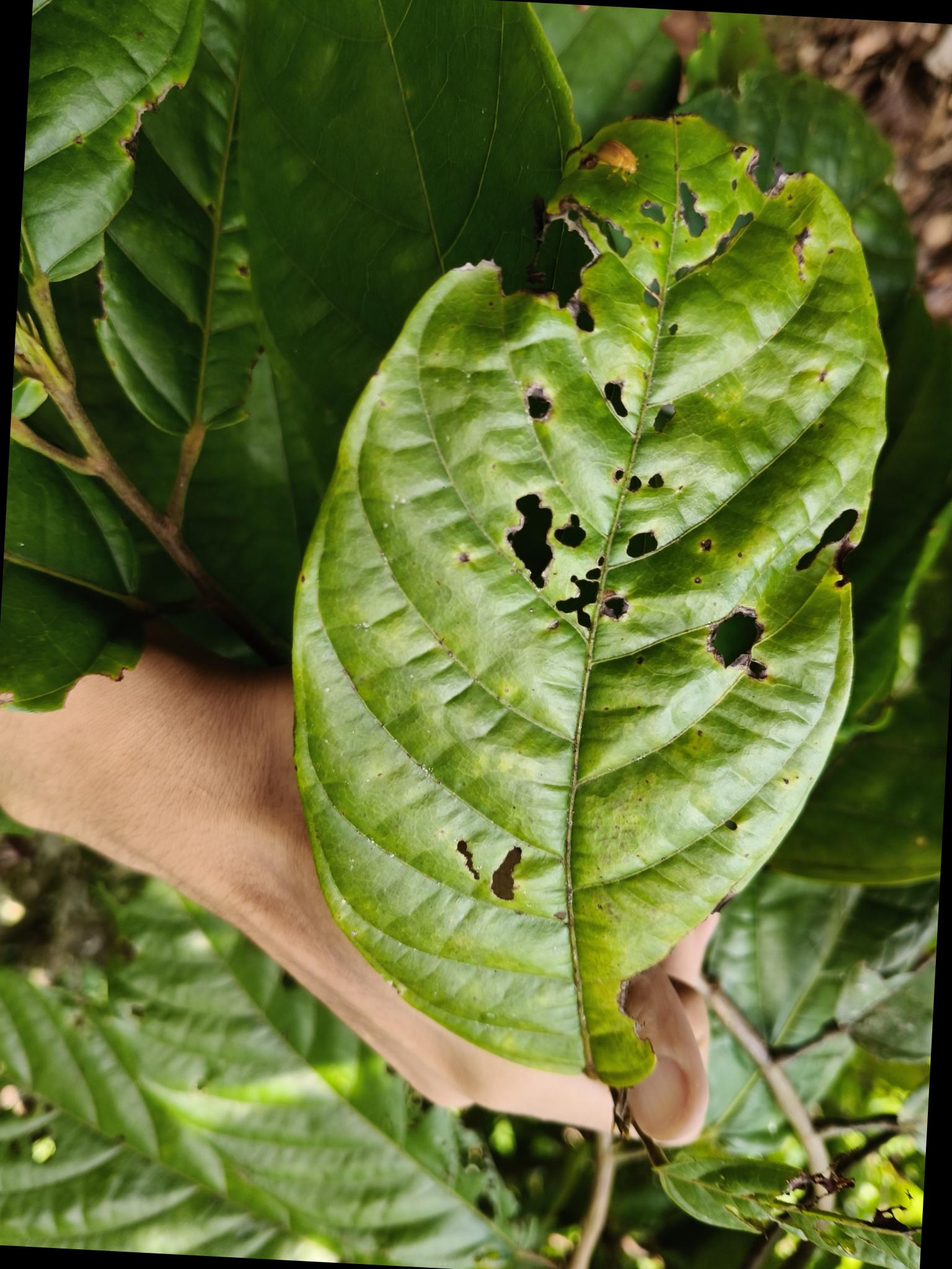Fosforo: (293, 136, 908, 1081)
